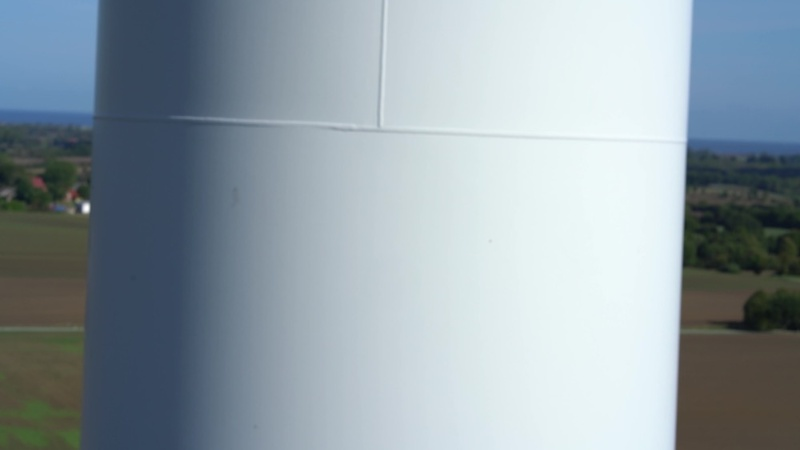weldseam: (89, 107, 690, 151), (374, 1, 394, 142)
